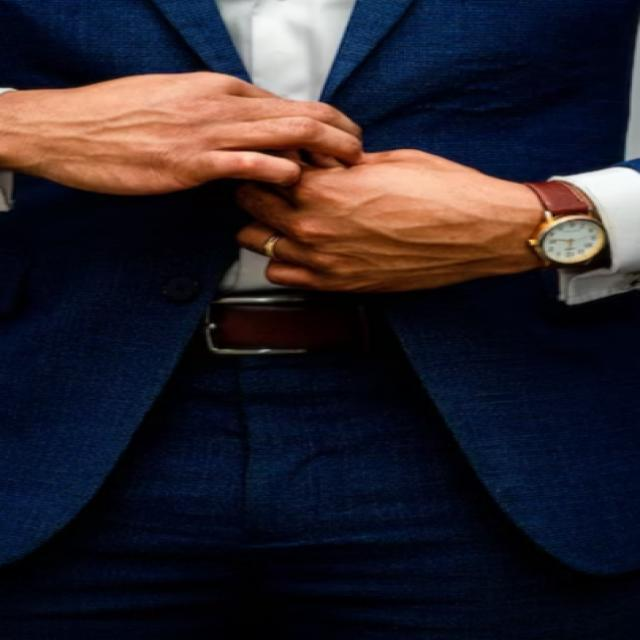Watch: (514, 175, 610, 280)
